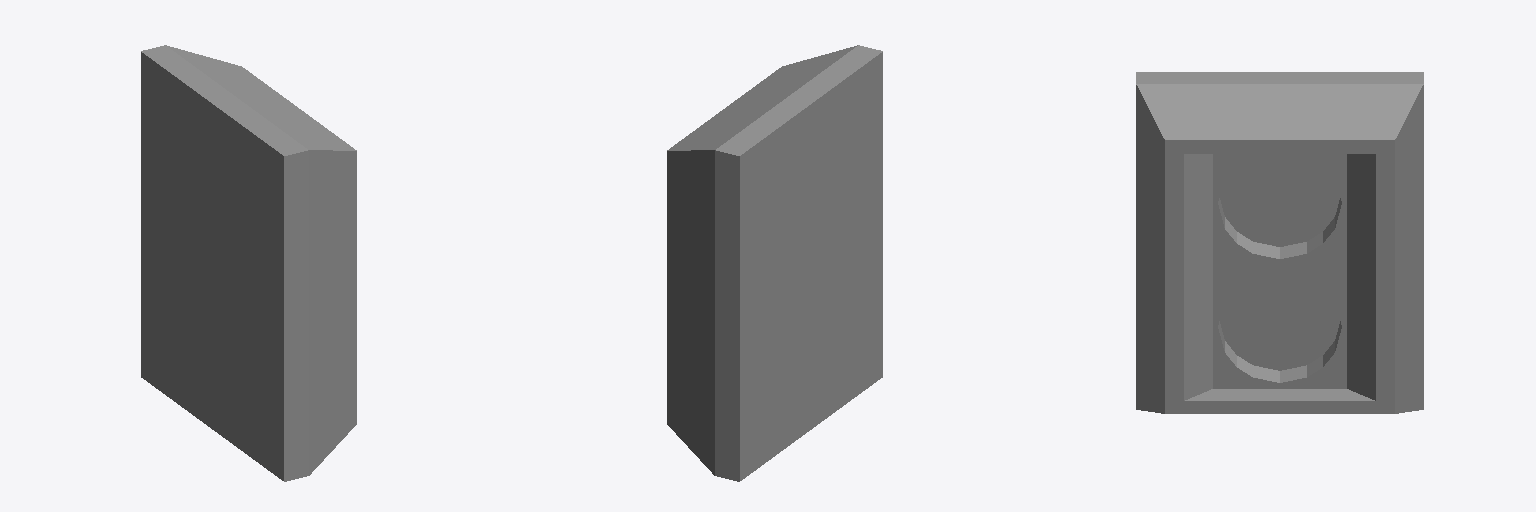
Rendered from Wall_outlet.obj.
3 views of the same model, side by side, from view 1: azimuth 30°, elevation 25°; view 2: azimuth 150°, elevation 25°; view 3: azimuth 270°, elevation 25° (orthographic).
Parts seen in each view (by area): view 1: Wall_outlet_Cube.004; view 2: Wall_outlet_Cube.004; view 3: Wall_outlet_Cube.004.
Boxes of the visible parts, x1,y1,x2,y2 form: Wall_outlet_Cube.004: [141, 45, 356, 481]; Wall_outlet_Cube.004: [667, 45, 882, 481]; Wall_outlet_Cube.004: [1136, 72, 1423, 413].
Size of the model in its own units: 0.035 by 0.125 by 0.1.